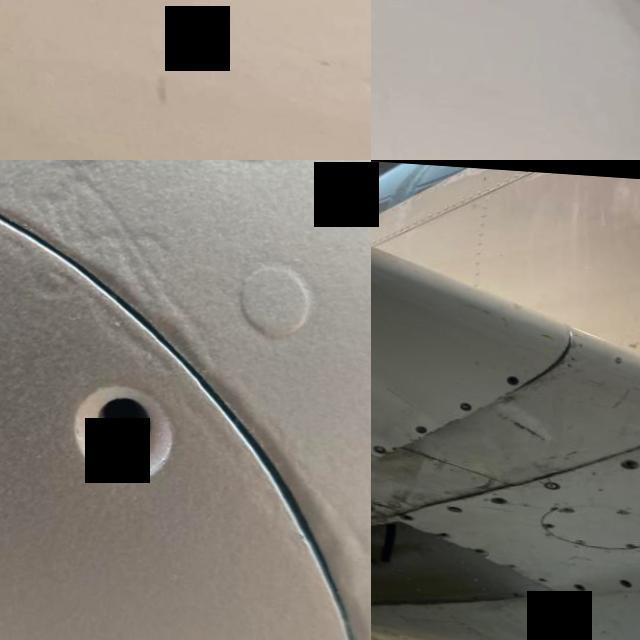Missing_Fastener: (9, 319, 218, 536), (614, 452, 636, 468), (501, 372, 517, 383), (454, 398, 470, 408), (612, 573, 628, 583), (410, 420, 423, 432), (564, 578, 578, 588), (396, 510, 409, 520), (487, 492, 502, 500), (432, 527, 446, 535), (371, 442, 380, 452)
